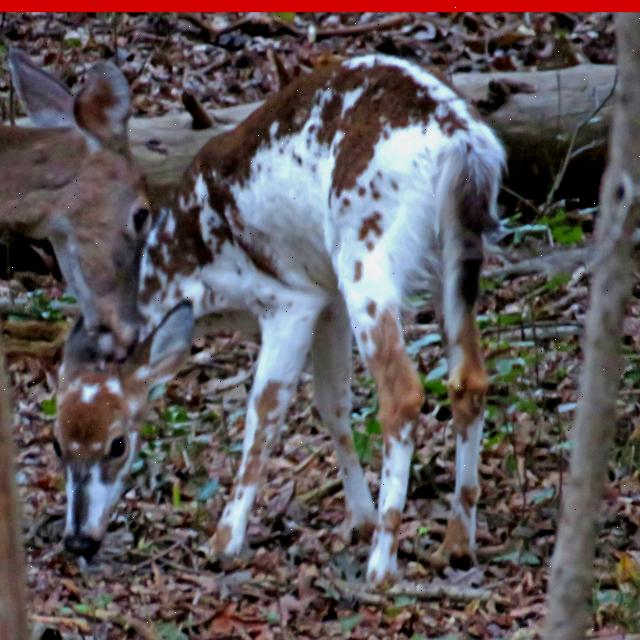deer: (41, 341, 530, 578), (9, 42, 185, 341)
